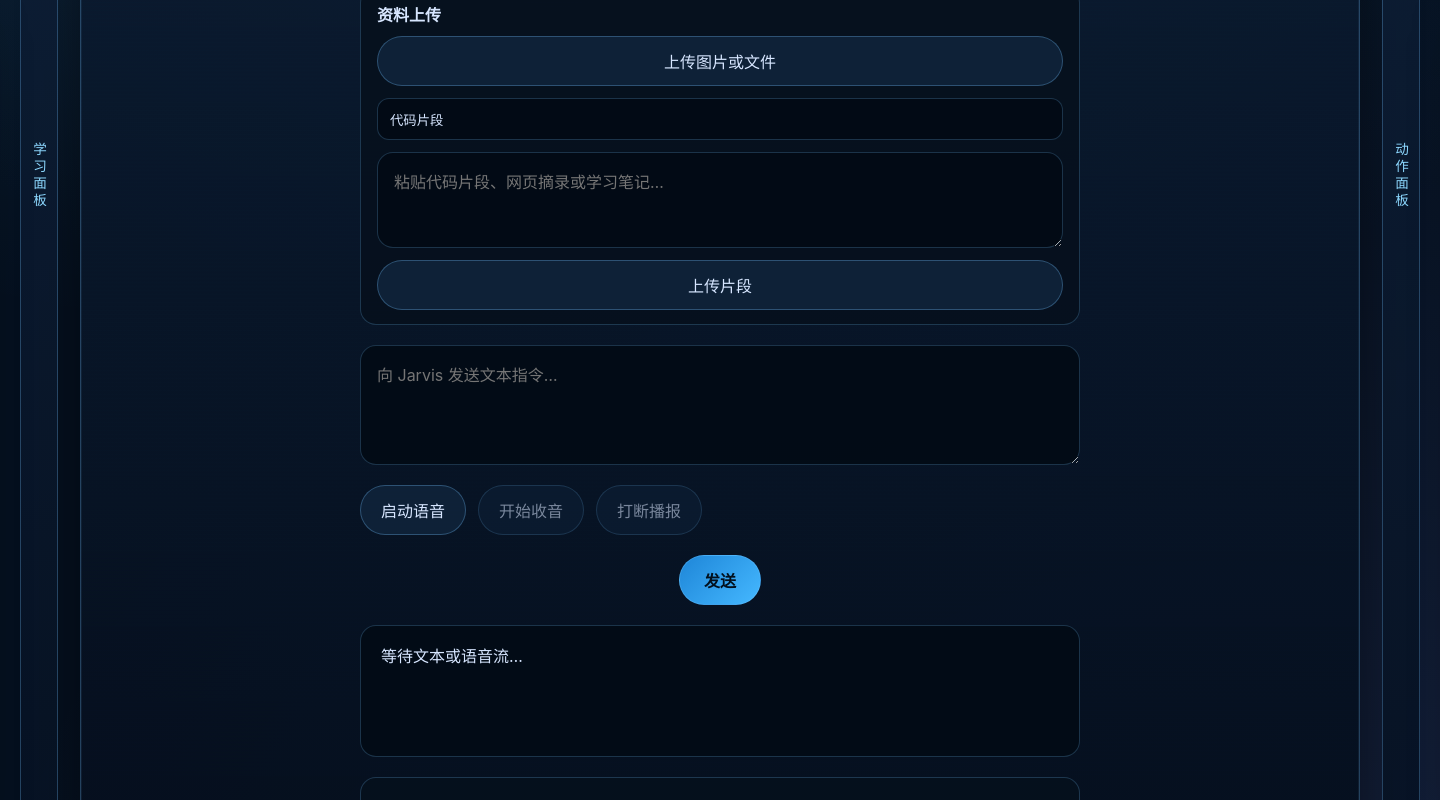
Test: text send with clarification appends to streamed reply instead of overwriting
(page scrolled)
In the text box with placeholder "向 Jarvis 发送文本指令…": {"x": 720, "y": 405} [360,345,1080,465], type "tell me"
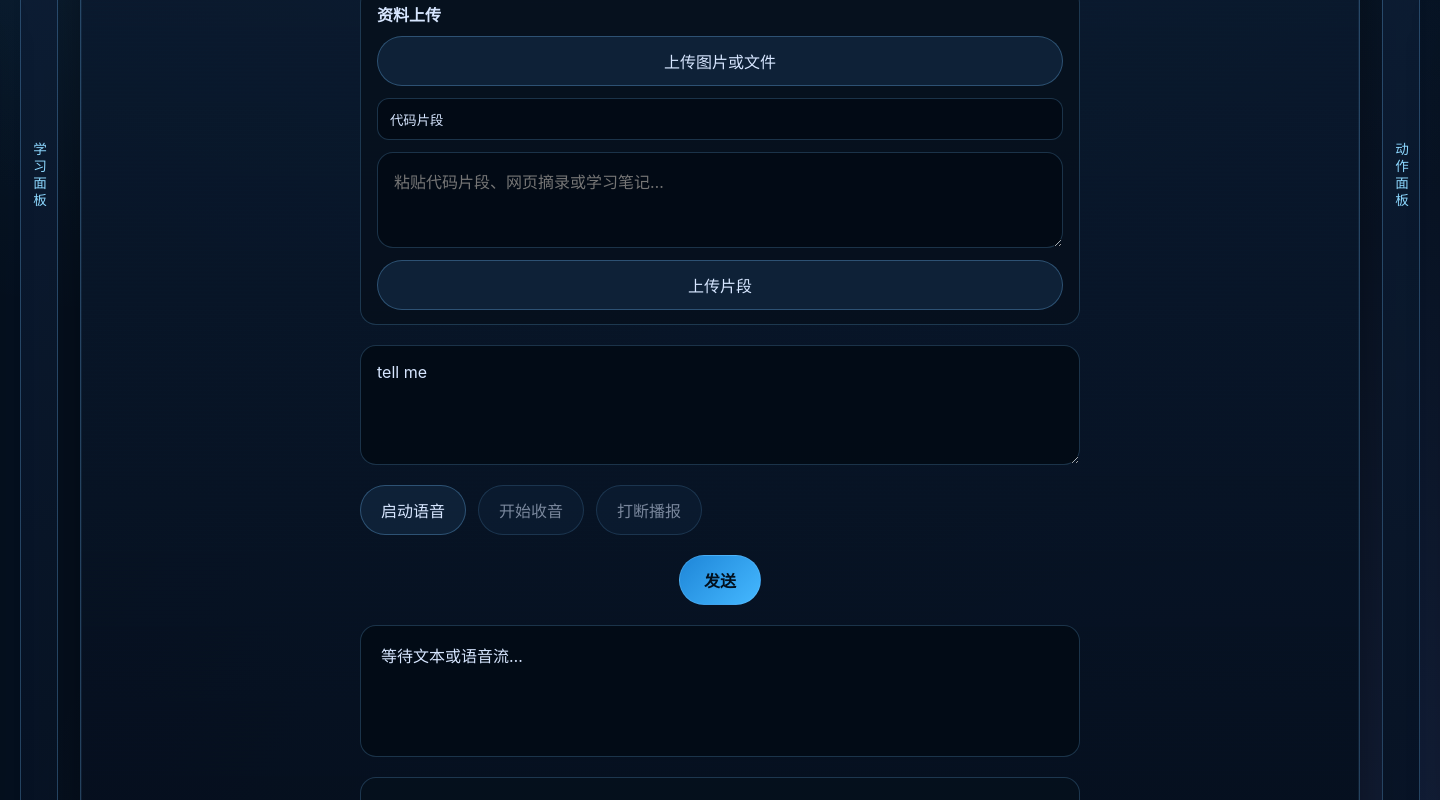
Click the button "发送": {"x": 720, "y": 580} [679,555,761,605]
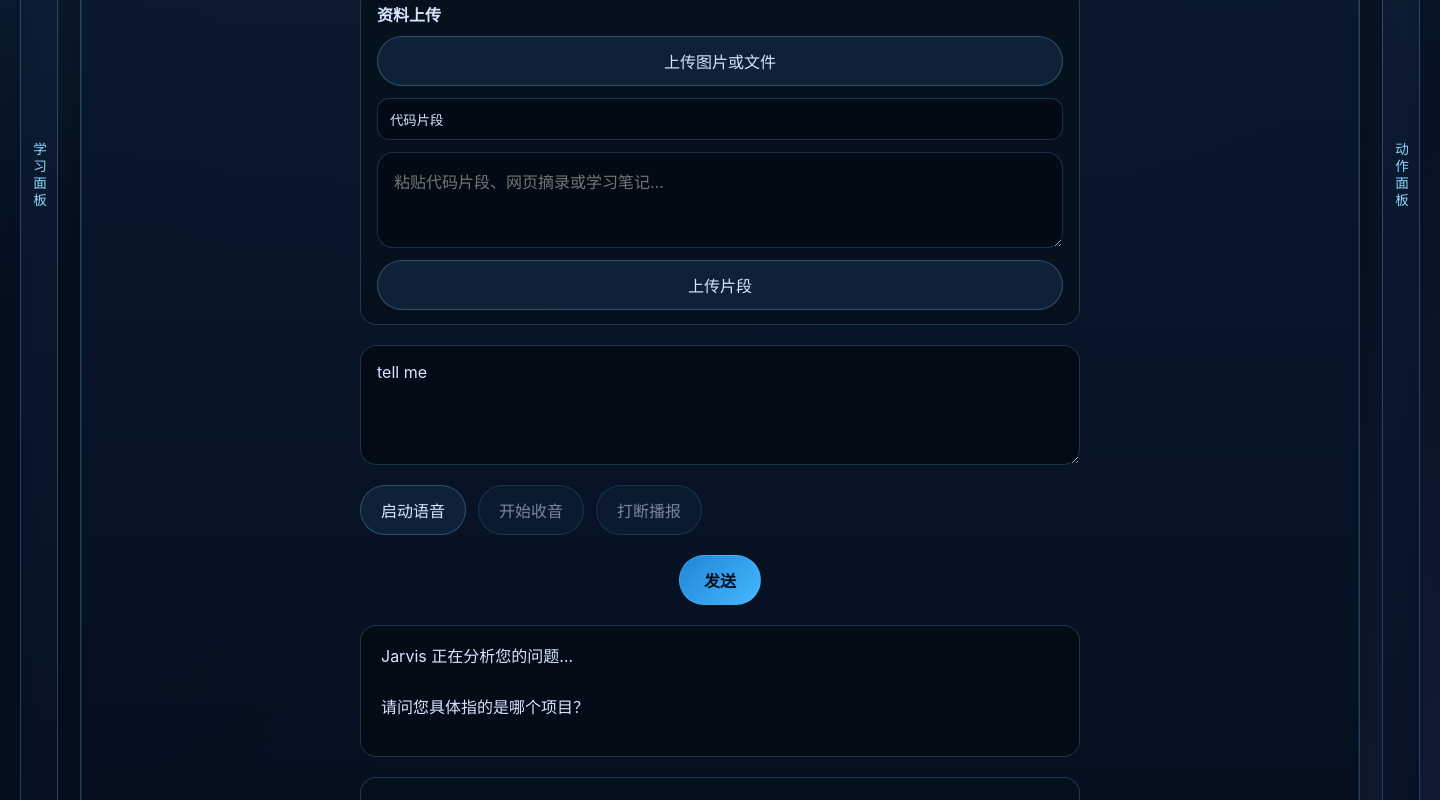
Now the text with class "reply-card" shows "Jarvis 正在分析您的问题…", box [381,646,589,717]
Now the text with class "reply-card" shows "请问您具体指的是哪个项目？", box [381,646,589,717]
